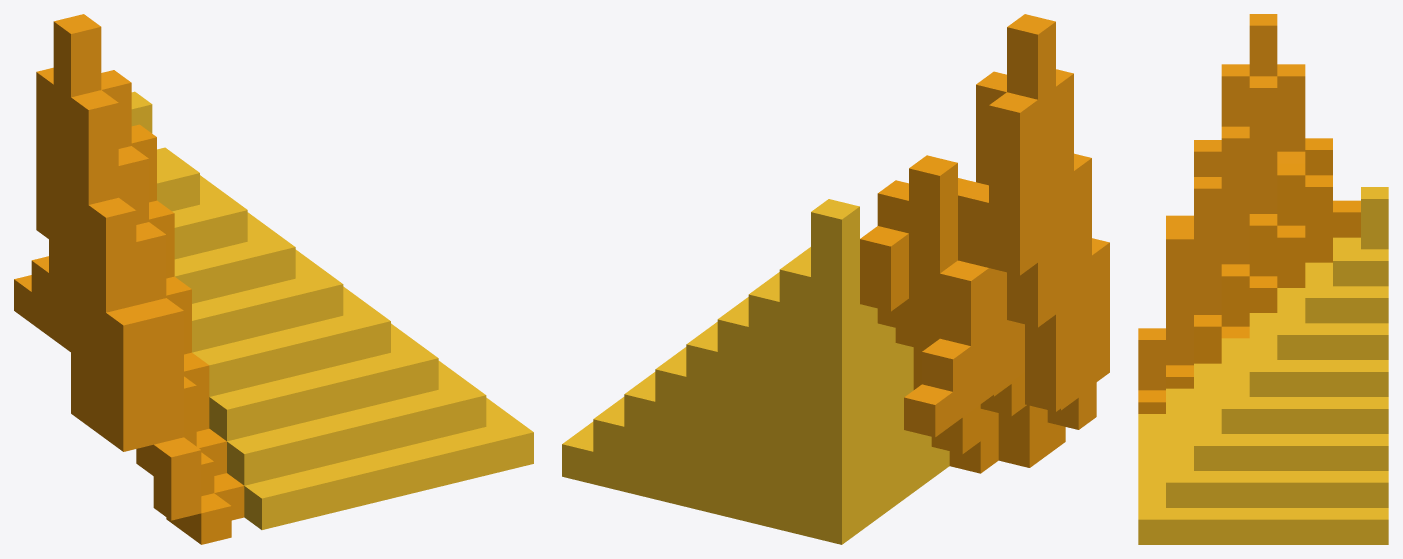
File: Skill-log.vox-2.obj
3 renders of one model, left to right at view 1: azimuth 30°, elevation 25°; view 2: azimuth 150°, elevation 25°; view 3: azimuth 270°, elevation 25°, orthographic. The views are drawn at different scales.
Size of the model in its own units: 1.3 by 1.5 by 0.9.
1 material, 1 textured.
